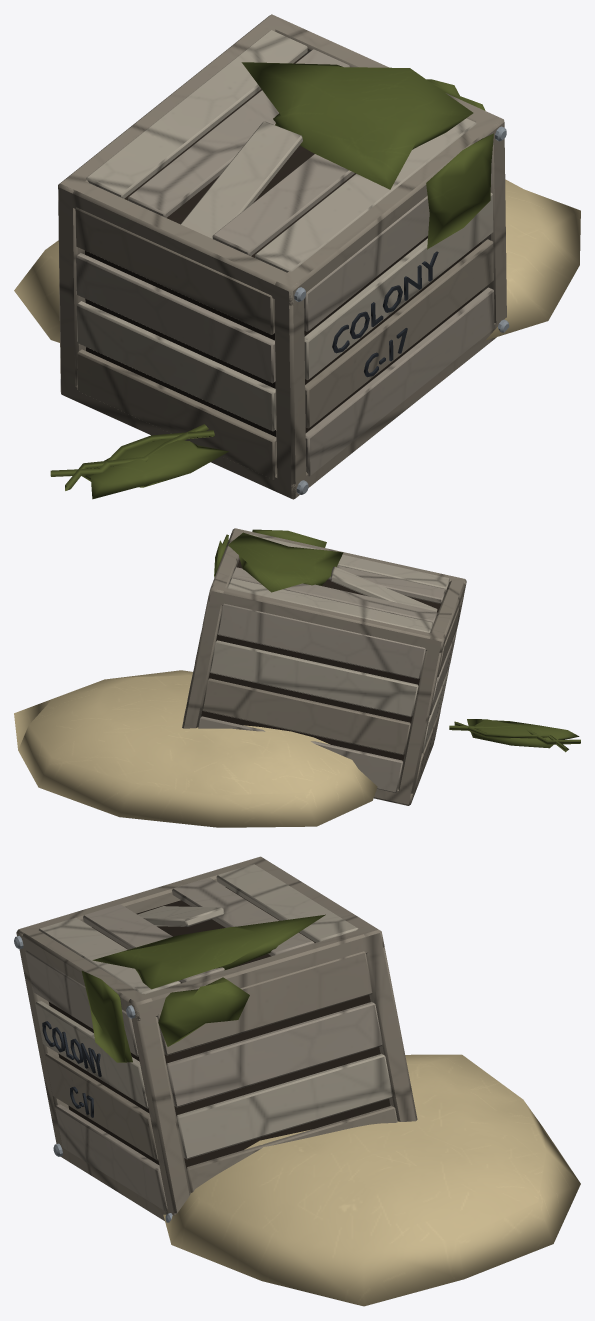
The model's file is shipping_crate_washed.glb.
3 views of the same model, one above another, from view 1: azimuth 30°, elevation 25°; view 2: azimuth 150°, elevation 25°; view 3: azimuth 270°, elevation 25° (orthographic). The views are drawn at different scales.
Parts seen in each view (by area): view 1: shipping_crate_washed; view 2: shipping_crate_washed; view 3: shipping_crate_washed.
Part boxes in pixels (x1,y1,x2,y2): shipping_crate_washed: [14, 14, 580, 499]; shipping_crate_washed: [14, 528, 580, 827]; shipping_crate_washed: [14, 856, 580, 1306].
Bounding box in the file's own units: 2.65 × 1.2 × 2.09.
10 materials, 10 textured.
